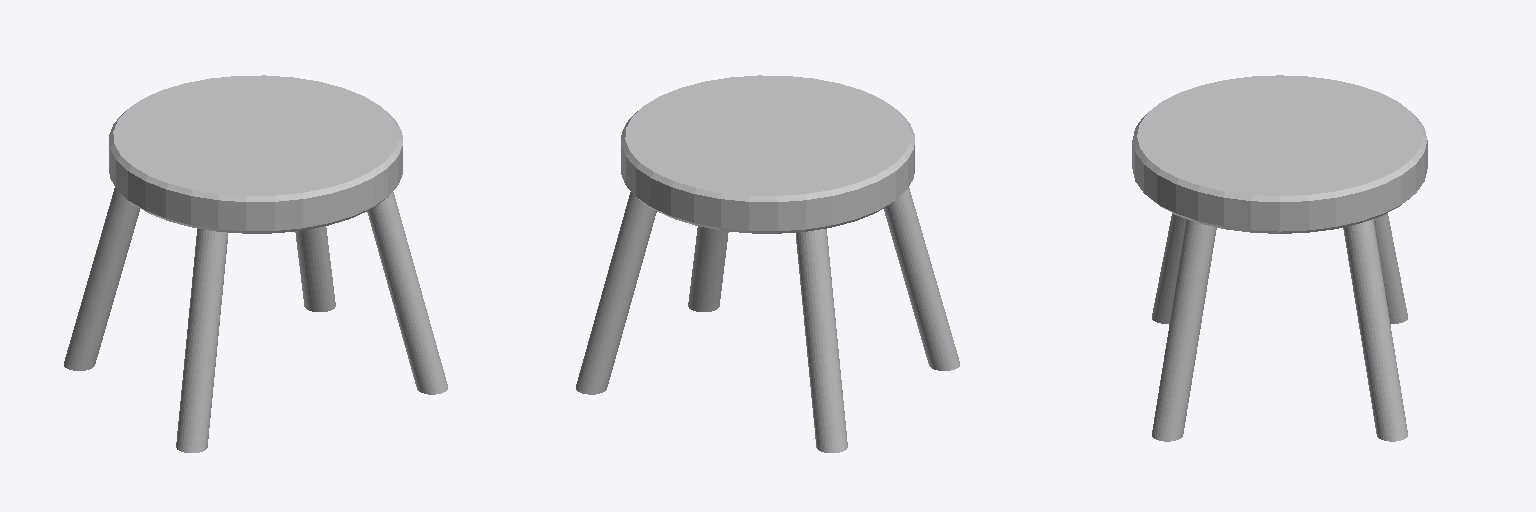
File: KidsStool.obj
The picture shows the model from 3 angles: view 1: azimuth 30°, elevation 25°; view 2: azimuth 150°, elevation 25°; view 3: azimuth 270°, elevation 25°; orthographic projection.
Visible parts, largest first — view 1: Seat_Cylinder, Legs_Cylinder.001; view 2: Seat_Cylinder, Legs_Cylinder.001; view 3: Seat_Cylinder, Legs_Cylinder.001.
Part boxes in pixels (x1,y1,x2,y2): Seat_Cylinder: (109,75,402,233); Legs_Cylinder.001: (64,188,447,452); Seat_Cylinder: (621,75,914,233); Legs_Cylinder.001: (576,188,959,452); Seat_Cylinder: (1132,75,1427,233); Legs_Cylinder.001: (1152,213,1407,441).
Bounding box in the file's own units: 2.1 × 1.8 × 2.